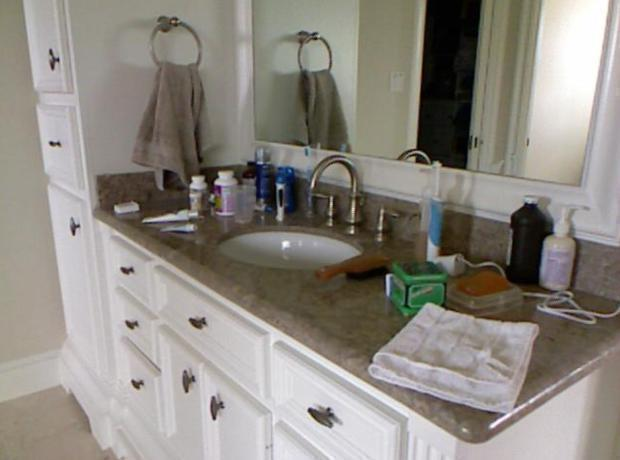Lavamanos: (213, 152, 404, 289)
